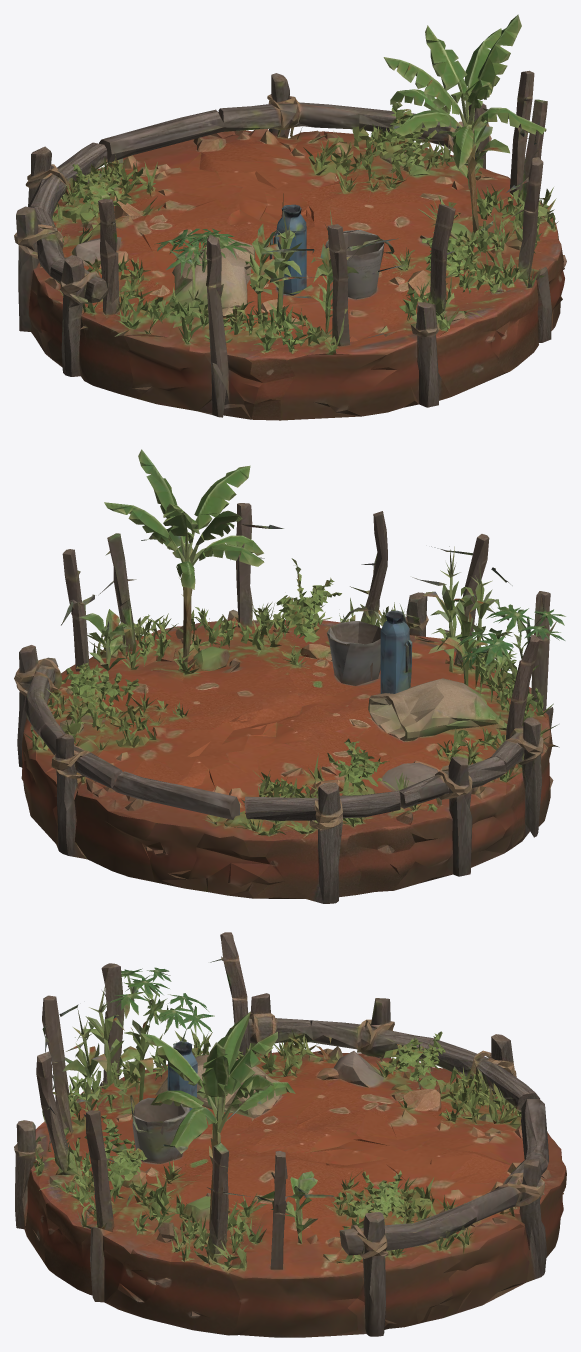
File: garden.glb
The picture shows the model from 3 angles, top to bottom: view 1: azimuth 30°, elevation 25°; view 2: azimuth 150°, elevation 25°; view 3: azimuth 270°, elevation 25°; orthographic projection. The views are drawn at different scales.
Parts seen in each view (by area): view 1: output_unwrapped; view 2: output_unwrapped; view 3: output_unwrapped.
Boxes of the visible parts, left/top/right/bottom form: output_unwrapped: left=14, top=14, right=566, bottom=420; output_unwrapped: left=14, top=449, right=565, bottom=903; output_unwrapped: left=14, top=932, right=566, bottom=1337.
Size of the model in its own units: 1.88 by 1.02 by 1.87.
1 material, 1 textured.
